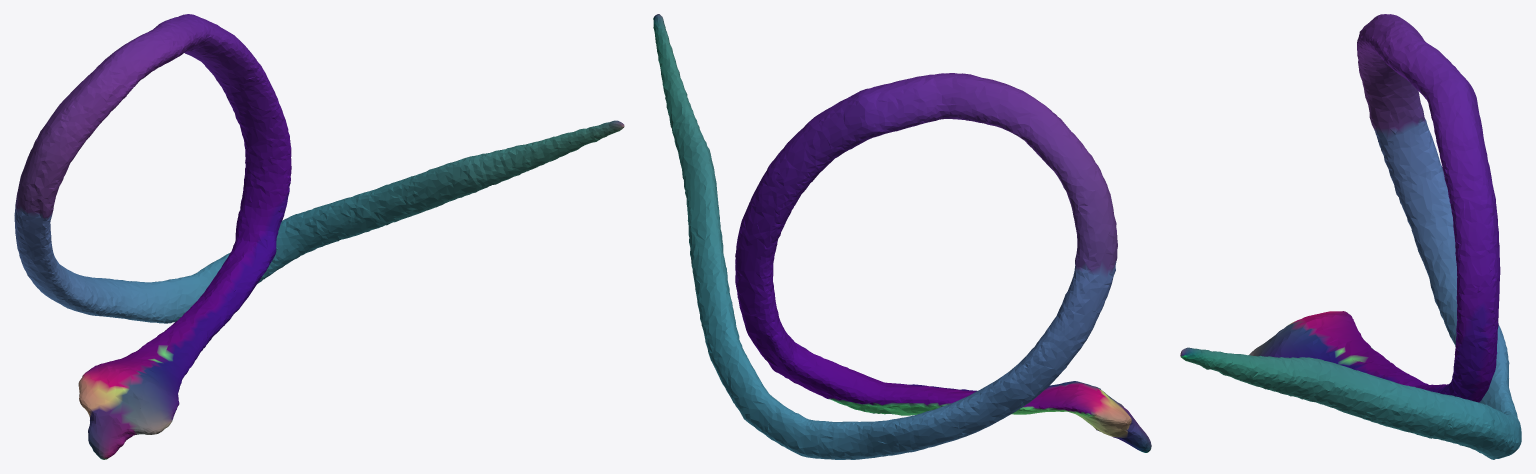
Rendered from snake-9.off.obj.
3 views of the same model, side by side, from view 1: azimuth 30°, elevation 25°; view 2: azimuth 150°, elevation 25°; view 3: azimuth 270°, elevation 25° (orthographic). The views are drawn at different scales.
Bounding box in the file's own units: 1.21 × 0.8107 × 0.6316.
